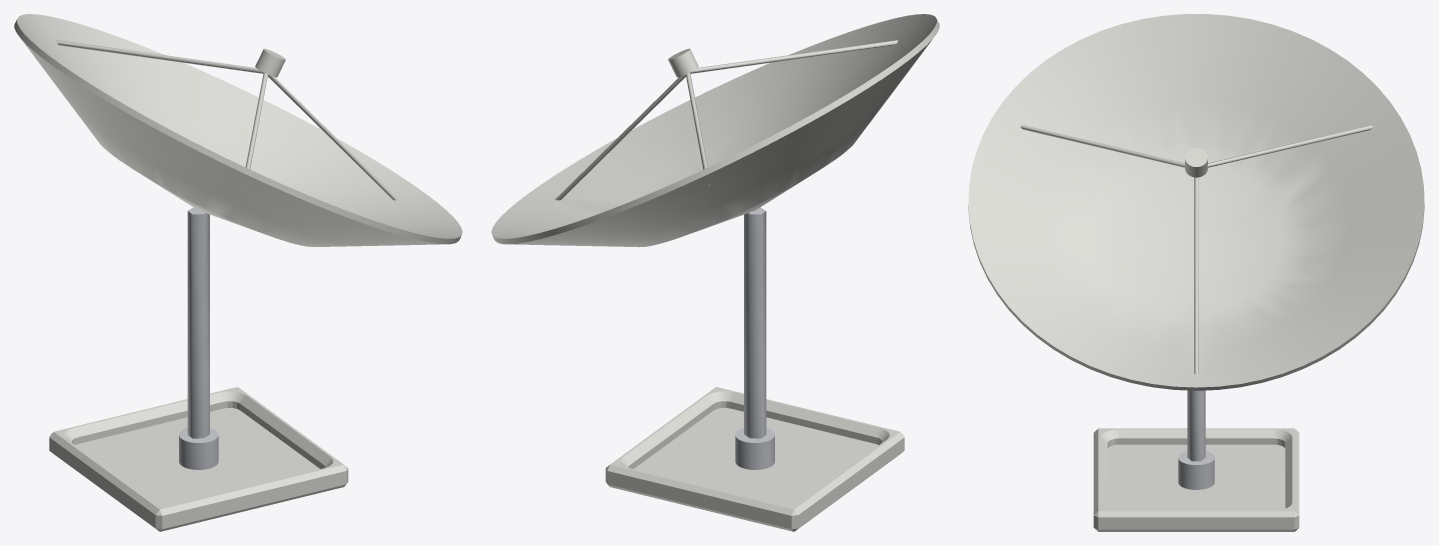
File: ax_power_14_high_gain_dish_m_deployed.glb
3 views of the same model, side by side, from view 1: azimuth 30°, elevation 25°; view 2: azimuth 150°, elevation 25°; view 3: azimuth 270°, elevation 25° (orthographic). The views are drawn at different scales.
Parts seen in each view (by area): view 1: dish, gimbal_well, gimbal; view 2: dish, gimbal_well, gimbal; view 3: dish, gimbal_well, gimbal.
Boxes of the visible parts, x1,y1,x2,y2 form: dish: [14, 14, 462, 247]; gimbal_well: [49, 387, 348, 531]; gimbal: [179, 207, 218, 469]; dish: [491, 14, 939, 247]; gimbal_well: [605, 387, 904, 531]; gimbal: [735, 207, 774, 469]; dish: [968, 14, 1424, 390]; gimbal_well: [1093, 428, 1299, 531]; gimbal: [1178, 390, 1214, 489].
Size of the model in its own units: 1.74 by 1.99 by 2.
2 materials, 1 textured.
